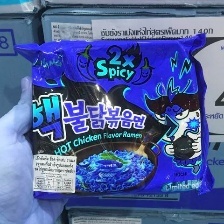snack: (6, 26, 220, 205)
